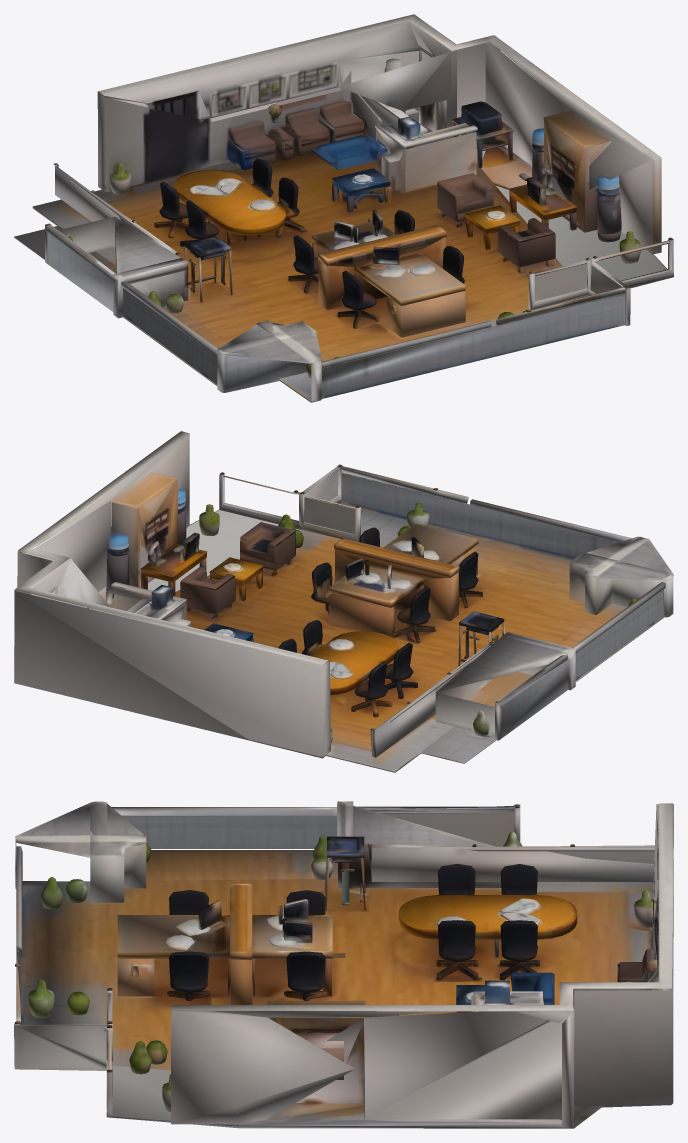
The model's file is escritorio.glb.
The picture shows the model from 3 angles, top to bottom: view 1: azimuth 30°, elevation 25°; view 2: azimuth 150°, elevation 25°; view 3: azimuth 270°, elevation 25°; orthographic projection. The views are drawn at different scales.
Visible parts, largest first — view 1: material; view 2: material; view 3: material.
Boxes of the visible parts, <box> form: material: <box>14,14,673,402</box>; material: <box>14,431,673,772</box>; material: <box>14,801,673,1128</box>.
Bounding box in the file's own units: 1.9 × 0.3819 × 1.91.
1 material, 1 textured.
